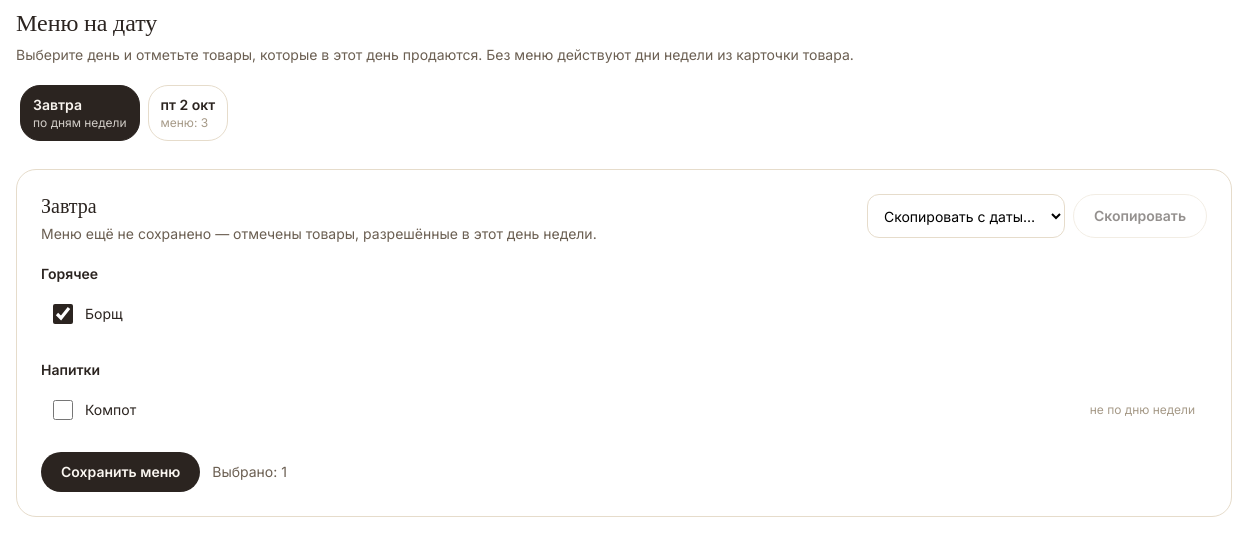
MenuPage › saves exactly the ticked products and then shows the saved state with «Удалить меню»
The width and height of the screenshot is (1249, 534).
Click the checkbox labelled "Компот не по дню недели".
click(63, 410)  # box [53, 400, 73, 420]
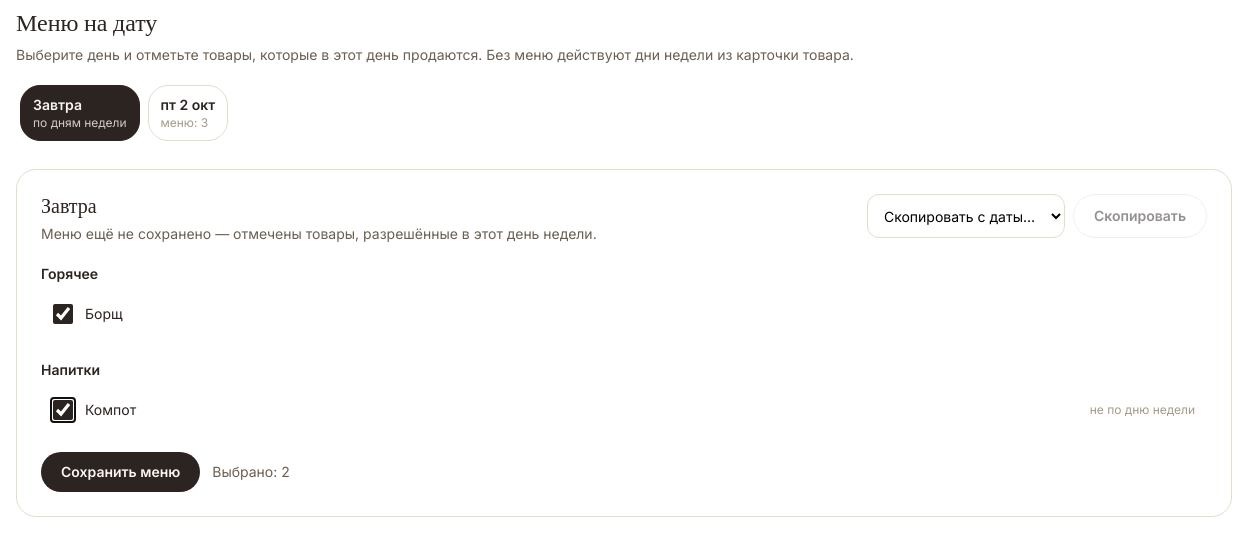
Click the button "Сохранить меню".
click(121, 472)  # box [41, 452, 200, 492]
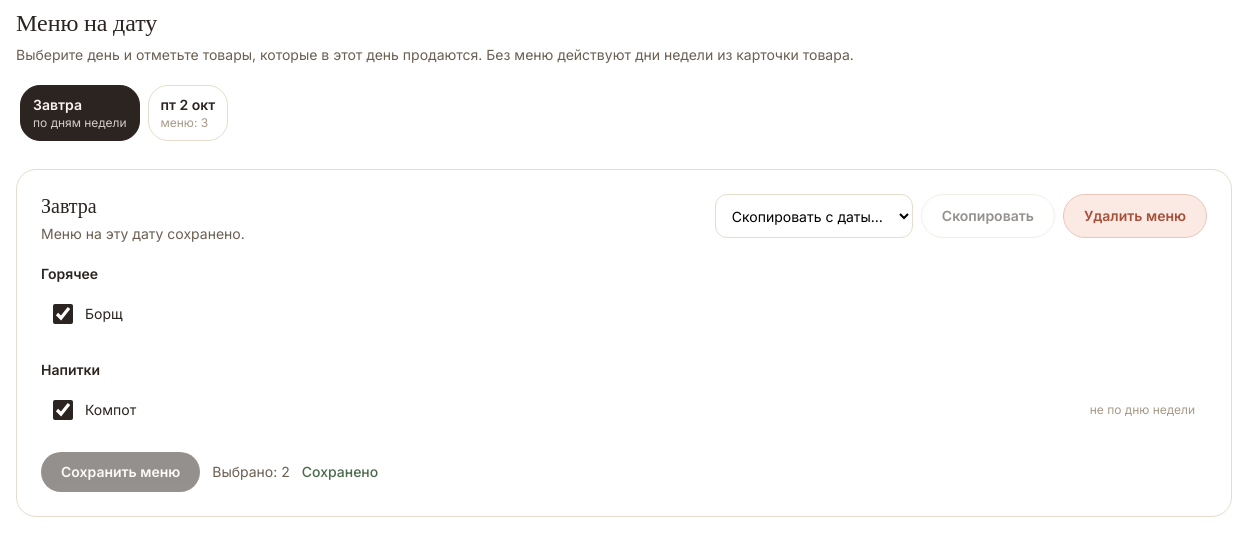
Check: the text "Меню на эту дату сохранено." is shown, box [41, 224, 245, 244]
Check: the button "Удалить меню" is shown, box [1063, 194, 1207, 238]
